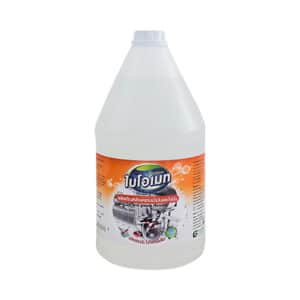Cleaning_solution: (89, 24, 208, 274)
